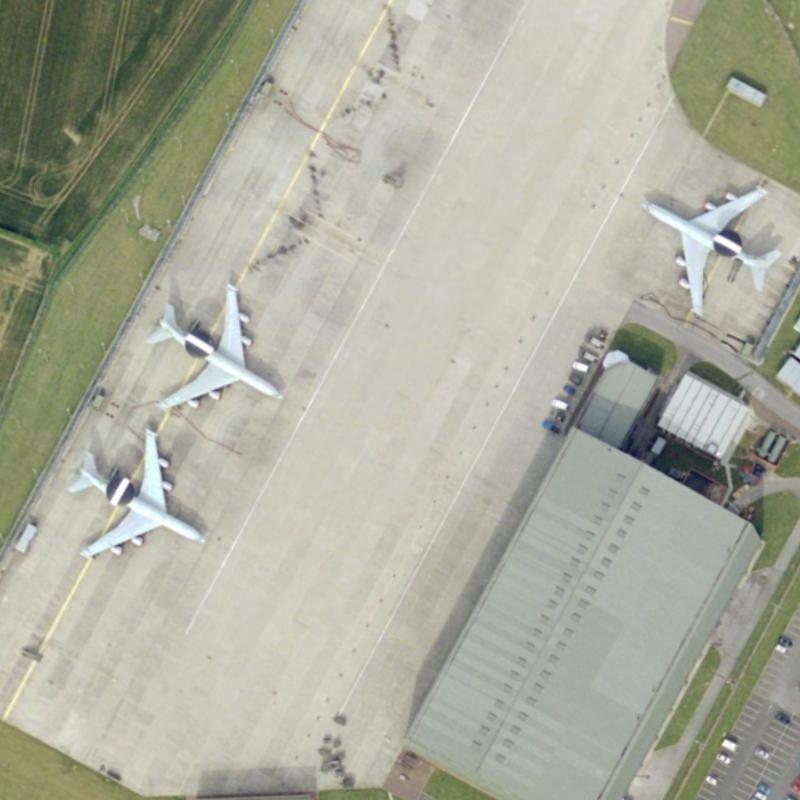A7: (138, 275, 296, 421), (636, 179, 789, 321), (70, 424, 217, 562)
